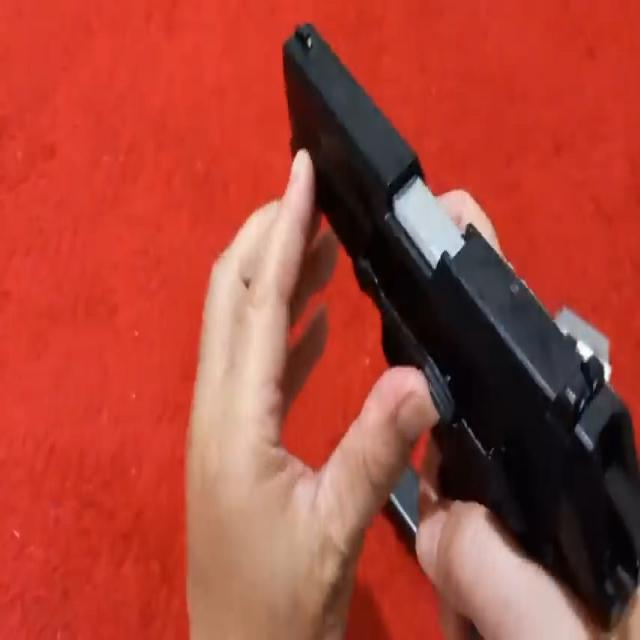handgun: (273, 9, 640, 640)
